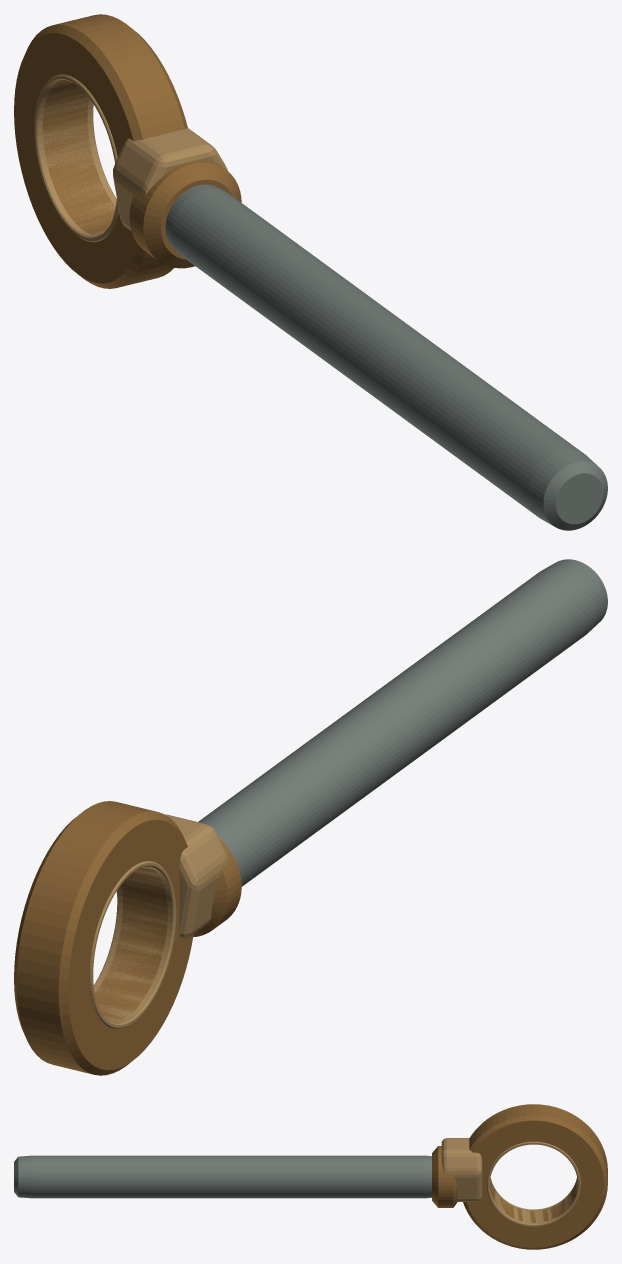
The model's file is PULL_PIN.hi.glb.
3 renders of one model, top to bottom at view 1: azimuth 30°, elevation 25°; view 2: azimuth 150°, elevation 25°; view 3: azimuth 270°, elevation 25°, orthographic. The views are drawn at different scales.
Parts seen in each view (by area): view 1: ShaftStretch_Mesh, Grip_Mesh; view 2: Grip_Mesh, ShaftStretch_Mesh; view 3: ShaftStretch_Mesh, Grip_Mesh.
Boxes of the visible parts, x1,y1,x2,y2 form: ShaftStretch_Mesh: (165,184,607,530); Grip_Mesh: (14,14,241,288); Grip_Mesh: (14,801,241,1075); ShaftStretch_Mesh: (198,559,607,886); ShaftStretch_Mesh: (14,1155,431,1198); Grip_Mesh: (432,1104,607,1249).
Size of the model in its own units: 0.29 by 0.69 by 2.77.
